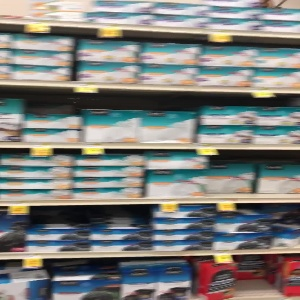void: (236, 256, 279, 298)
